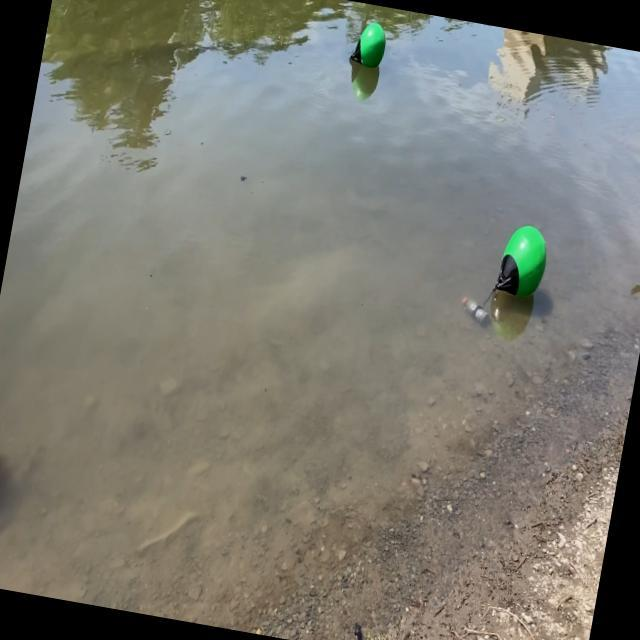buoy: (492, 220, 554, 306), (344, 14, 391, 74)
